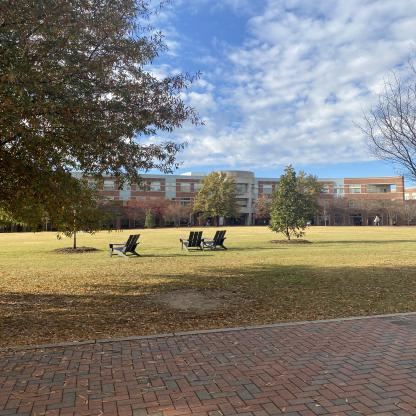EB-1: (22, 167, 414, 233)
